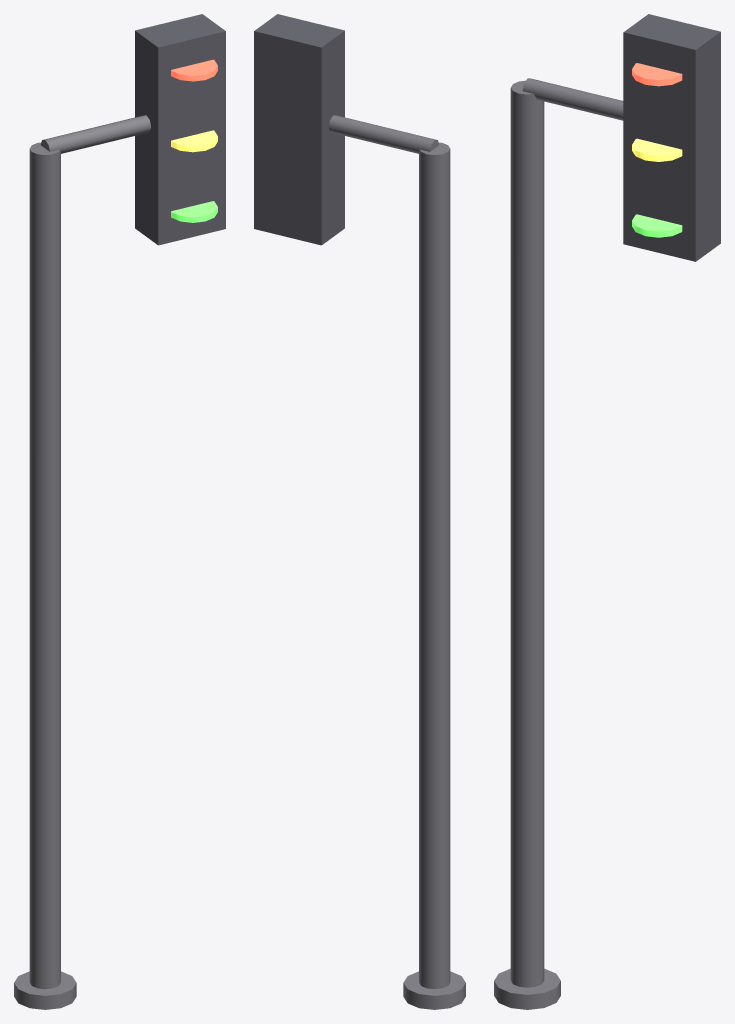
The model's file is traffic_light.glb.
3 views of the same model, side by side, from view 1: azimuth 30°, elevation 25°; view 2: azimuth 150°, elevation 25°; view 3: azimuth 330°, elevation 25° (orthographic). The views are drawn at different scales.
Parts seen in each view (by area): view 1: pole, head, arm, base, red, yellow, green; view 2: pole, head, arm, base; view 3: pole, head, arm, base, red, green, yellow.
Boxes of the visible parts, bbox=[...] form: pole: bbox=[29, 142, 60, 989]; head: bbox=[135, 14, 225, 245]; arm: bbox=[40, 115, 151, 153]; base: bbox=[14, 971, 76, 1009]; red: bbox=[171, 59, 217, 81]; yellow: bbox=[171, 130, 217, 152]; green: bbox=[171, 201, 217, 222]; pole: bbox=[419, 142, 450, 989]; head: bbox=[254, 14, 344, 245]; arm: bbox=[328, 115, 439, 153]; base: bbox=[403, 971, 465, 1009]; pole: bbox=[510, 80, 544, 987]; head: bbox=[623, 14, 720, 261]; arm: bbox=[522, 78, 623, 120]; base: bbox=[494, 968, 560, 1009]; red: bbox=[632, 63, 682, 86]; green: bbox=[632, 214, 682, 237]; yellow: bbox=[632, 138, 682, 161].
Size of the model in its own units: 0.725 by 3.3 by 0.26.
